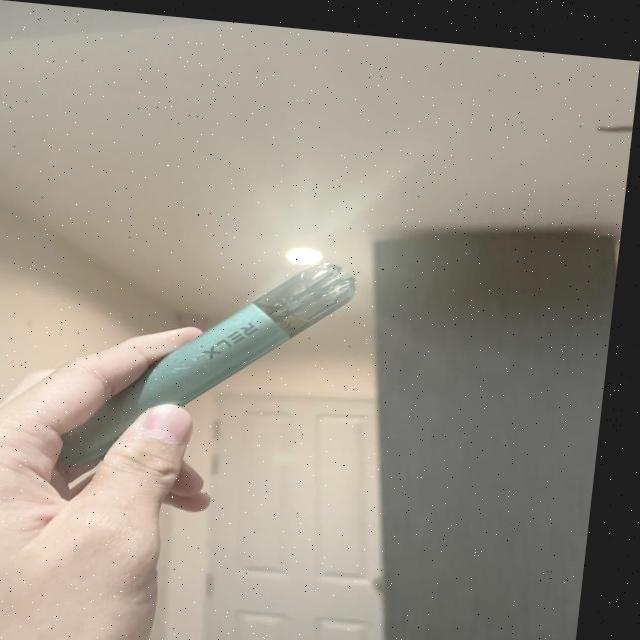vape: (64, 235, 367, 484)
